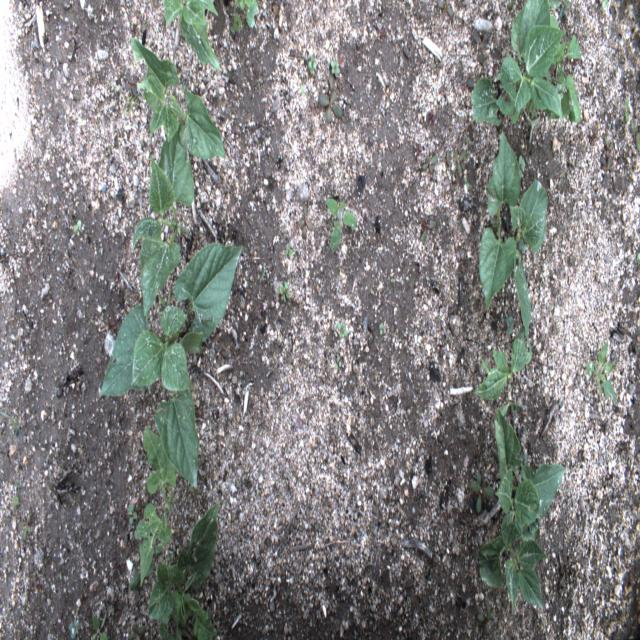crop: (99, 242, 244, 490), (474, 408, 568, 616), (472, 0, 582, 148), (479, 128, 548, 342), (133, 112, 194, 320), (130, 37, 226, 157), (147, 500, 219, 640), (134, 422, 177, 588), (472, 322, 533, 400), (162, 0, 221, 70)
weed: (585, 341, 617, 403), (324, 198, 358, 254), (318, 70, 346, 126), (470, 470, 494, 515), (230, 0, 259, 33), (128, 560, 153, 589), (476, 602, 496, 637), (467, 73, 489, 102), (298, 202, 313, 241), (472, 31, 488, 66), (419, 214, 437, 242), (0, 413, 19, 439), (90, 615, 109, 640), (420, 152, 439, 175), (548, 1, 571, 20), (600, 154, 612, 190), (435, 0, 455, 21), (17, 510, 31, 539), (127, 620, 146, 640), (512, 154, 525, 182), (451, 149, 466, 173), (116, 509, 130, 530), (278, 282, 291, 304), (127, 502, 137, 530), (631, 119, 639, 153), (429, 56, 444, 74), (186, 482, 202, 498), (68, 617, 79, 639), (603, 135, 614, 157), (308, 53, 318, 76), (442, 150, 451, 175), (505, 315, 514, 339), (336, 321, 347, 340), (520, 149, 530, 169), (505, 339, 521, 351), (308, 99, 320, 114), (624, 95, 630, 125), (121, 538, 129, 560), (330, 59, 339, 76), (73, 221, 82, 237), (600, 0, 610, 12), (285, 245, 294, 258), (12, 493, 20, 506), (334, 355, 340, 372), (379, 319, 384, 338), (464, 176, 470, 190), (540, 617, 546, 629), (636, 250, 640, 266), (466, 134, 471, 146), (442, 626, 447, 637), (389, 277, 396, 284)
